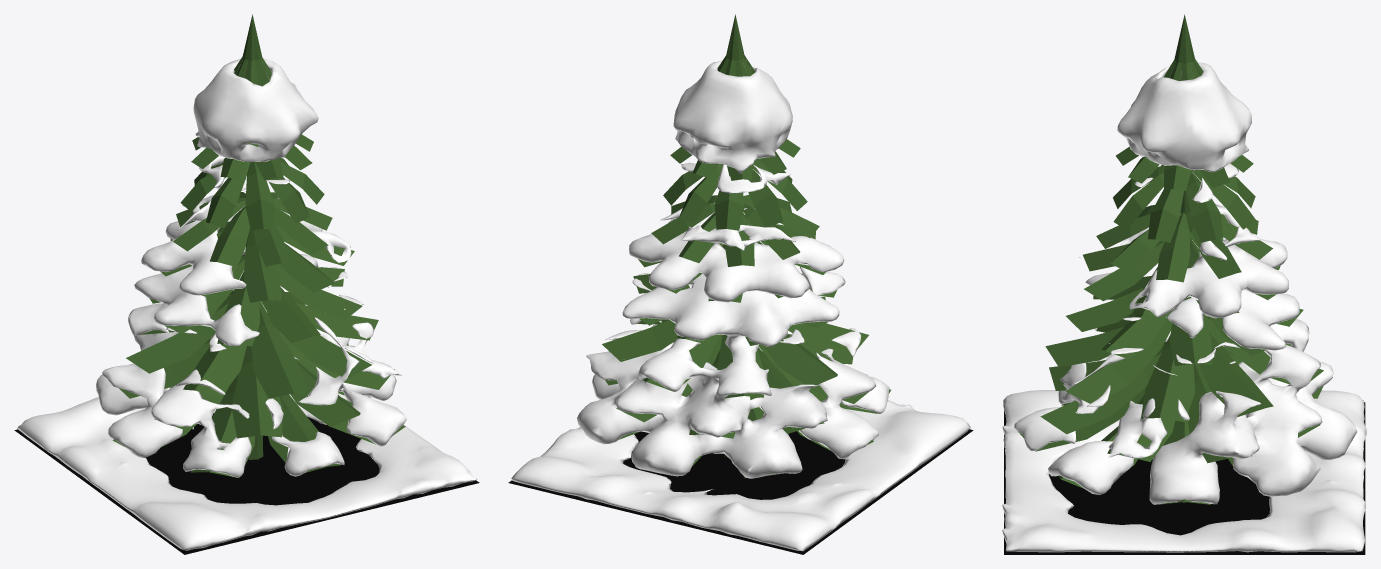
The model's file is Tree_S5P2.glb.
3 views of the same model, side by side, from view 1: azimuth 30°, elevation 25°; view 2: azimuth 150°, elevation 25°; view 3: azimuth 270°, elevation 25° (orthographic). The views are drawn at different scales.
Parts seen in each view (by area): view 1: SnowMesh, Fir_Tree, Plane; view 2: SnowMesh, Fir_Tree, Plane; view 3: SnowMesh, Fir_Tree, Plane.
Boxes of the visible parts, x1,y1,x2,y2 form: SnowMesh: [17, 58, 477, 550]; Fir_Tree: [112, 14, 405, 477]; Plane: [14, 413, 479, 554]; SnowMesh: [511, 61, 970, 551]; Fir_Tree: [602, 14, 890, 478]; Plane: [508, 429, 973, 554]; SnowMesh: [1002, 62, 1366, 552]; Fir_Tree: [1015, 14, 1323, 504]; Plane: [1004, 402, 1365, 554].
Bounding box in the file's own units: 4.02 × 5.73 × 4.04.
